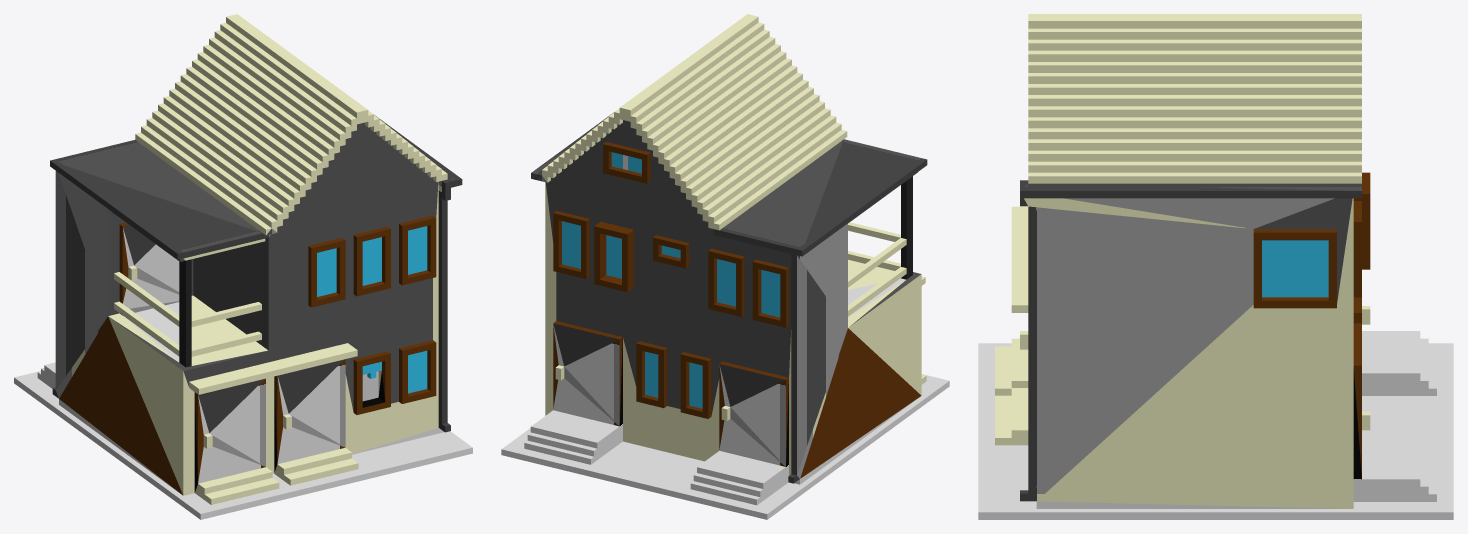
The model's file is obj_house8a.fbx.
The picture shows the model from 3 angles, left to right: view 1: azimuth 30°, elevation 25°; view 2: azimuth 150°, elevation 25°; view 3: azimuth 270°, elevation 25°; orthographic projection. The views are drawn at different scales.
Parts seen in each view (by area): view 1: obj_house8a; view 2: obj_house8a; view 3: obj_house8a.
Part boxes in pixels (x1,y1,x2,y2): obj_house8a: [14, 14, 472, 519]; obj_house8a: [501, 14, 949, 519]; obj_house8a: [978, 14, 1453, 519].
Size of the model in its own units: 4.9 by 5.7 by 5.9.
